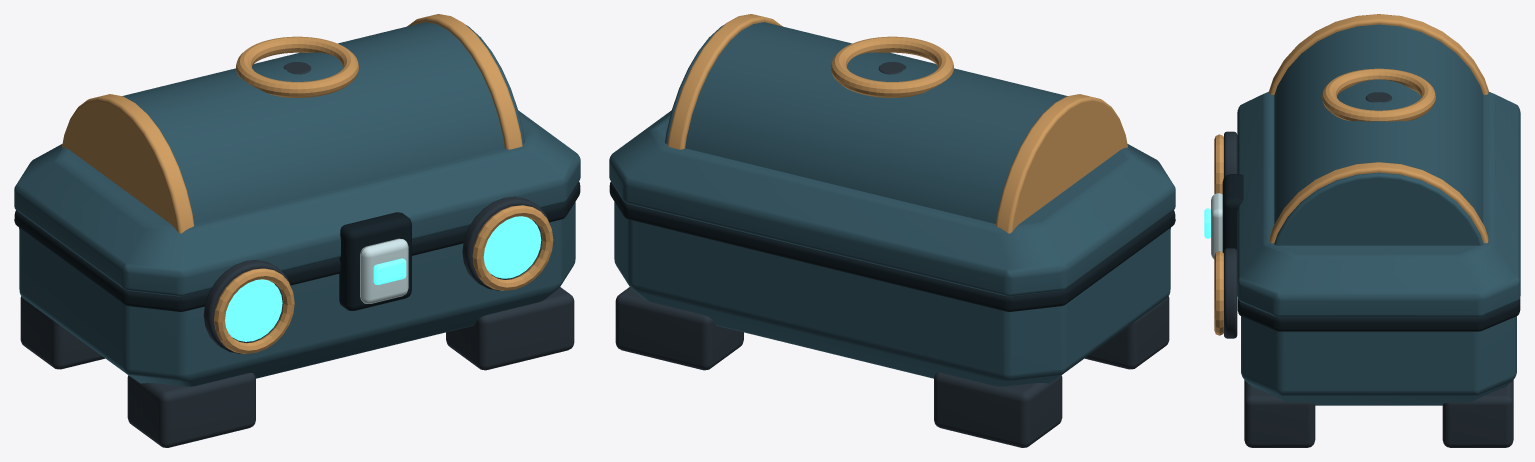
The model's file is salvage_cache.glb.
3 views of the same model, side by side, from view 1: azimuth 30°, elevation 25°; view 2: azimuth 150°, elevation 25°; view 3: azimuth 270°, elevation 25° (orthographic). The views are drawn at different scales.
Parts seen in each view (by area): view 1: Bathysphere strongbox; view 2: Bathysphere strongbox; view 3: Bathysphere strongbox.
Boxes of the visible parts, box(x1,y1,x2,y2) form: Bathysphere strongbox: box(14, 14, 580, 447); Bathysphere strongbox: box(609, 14, 1175, 447); Bathysphere strongbox: box(1204, 14, 1520, 447).
Size of the model in its own units: 1.38 by 0.831 by 0.893.
